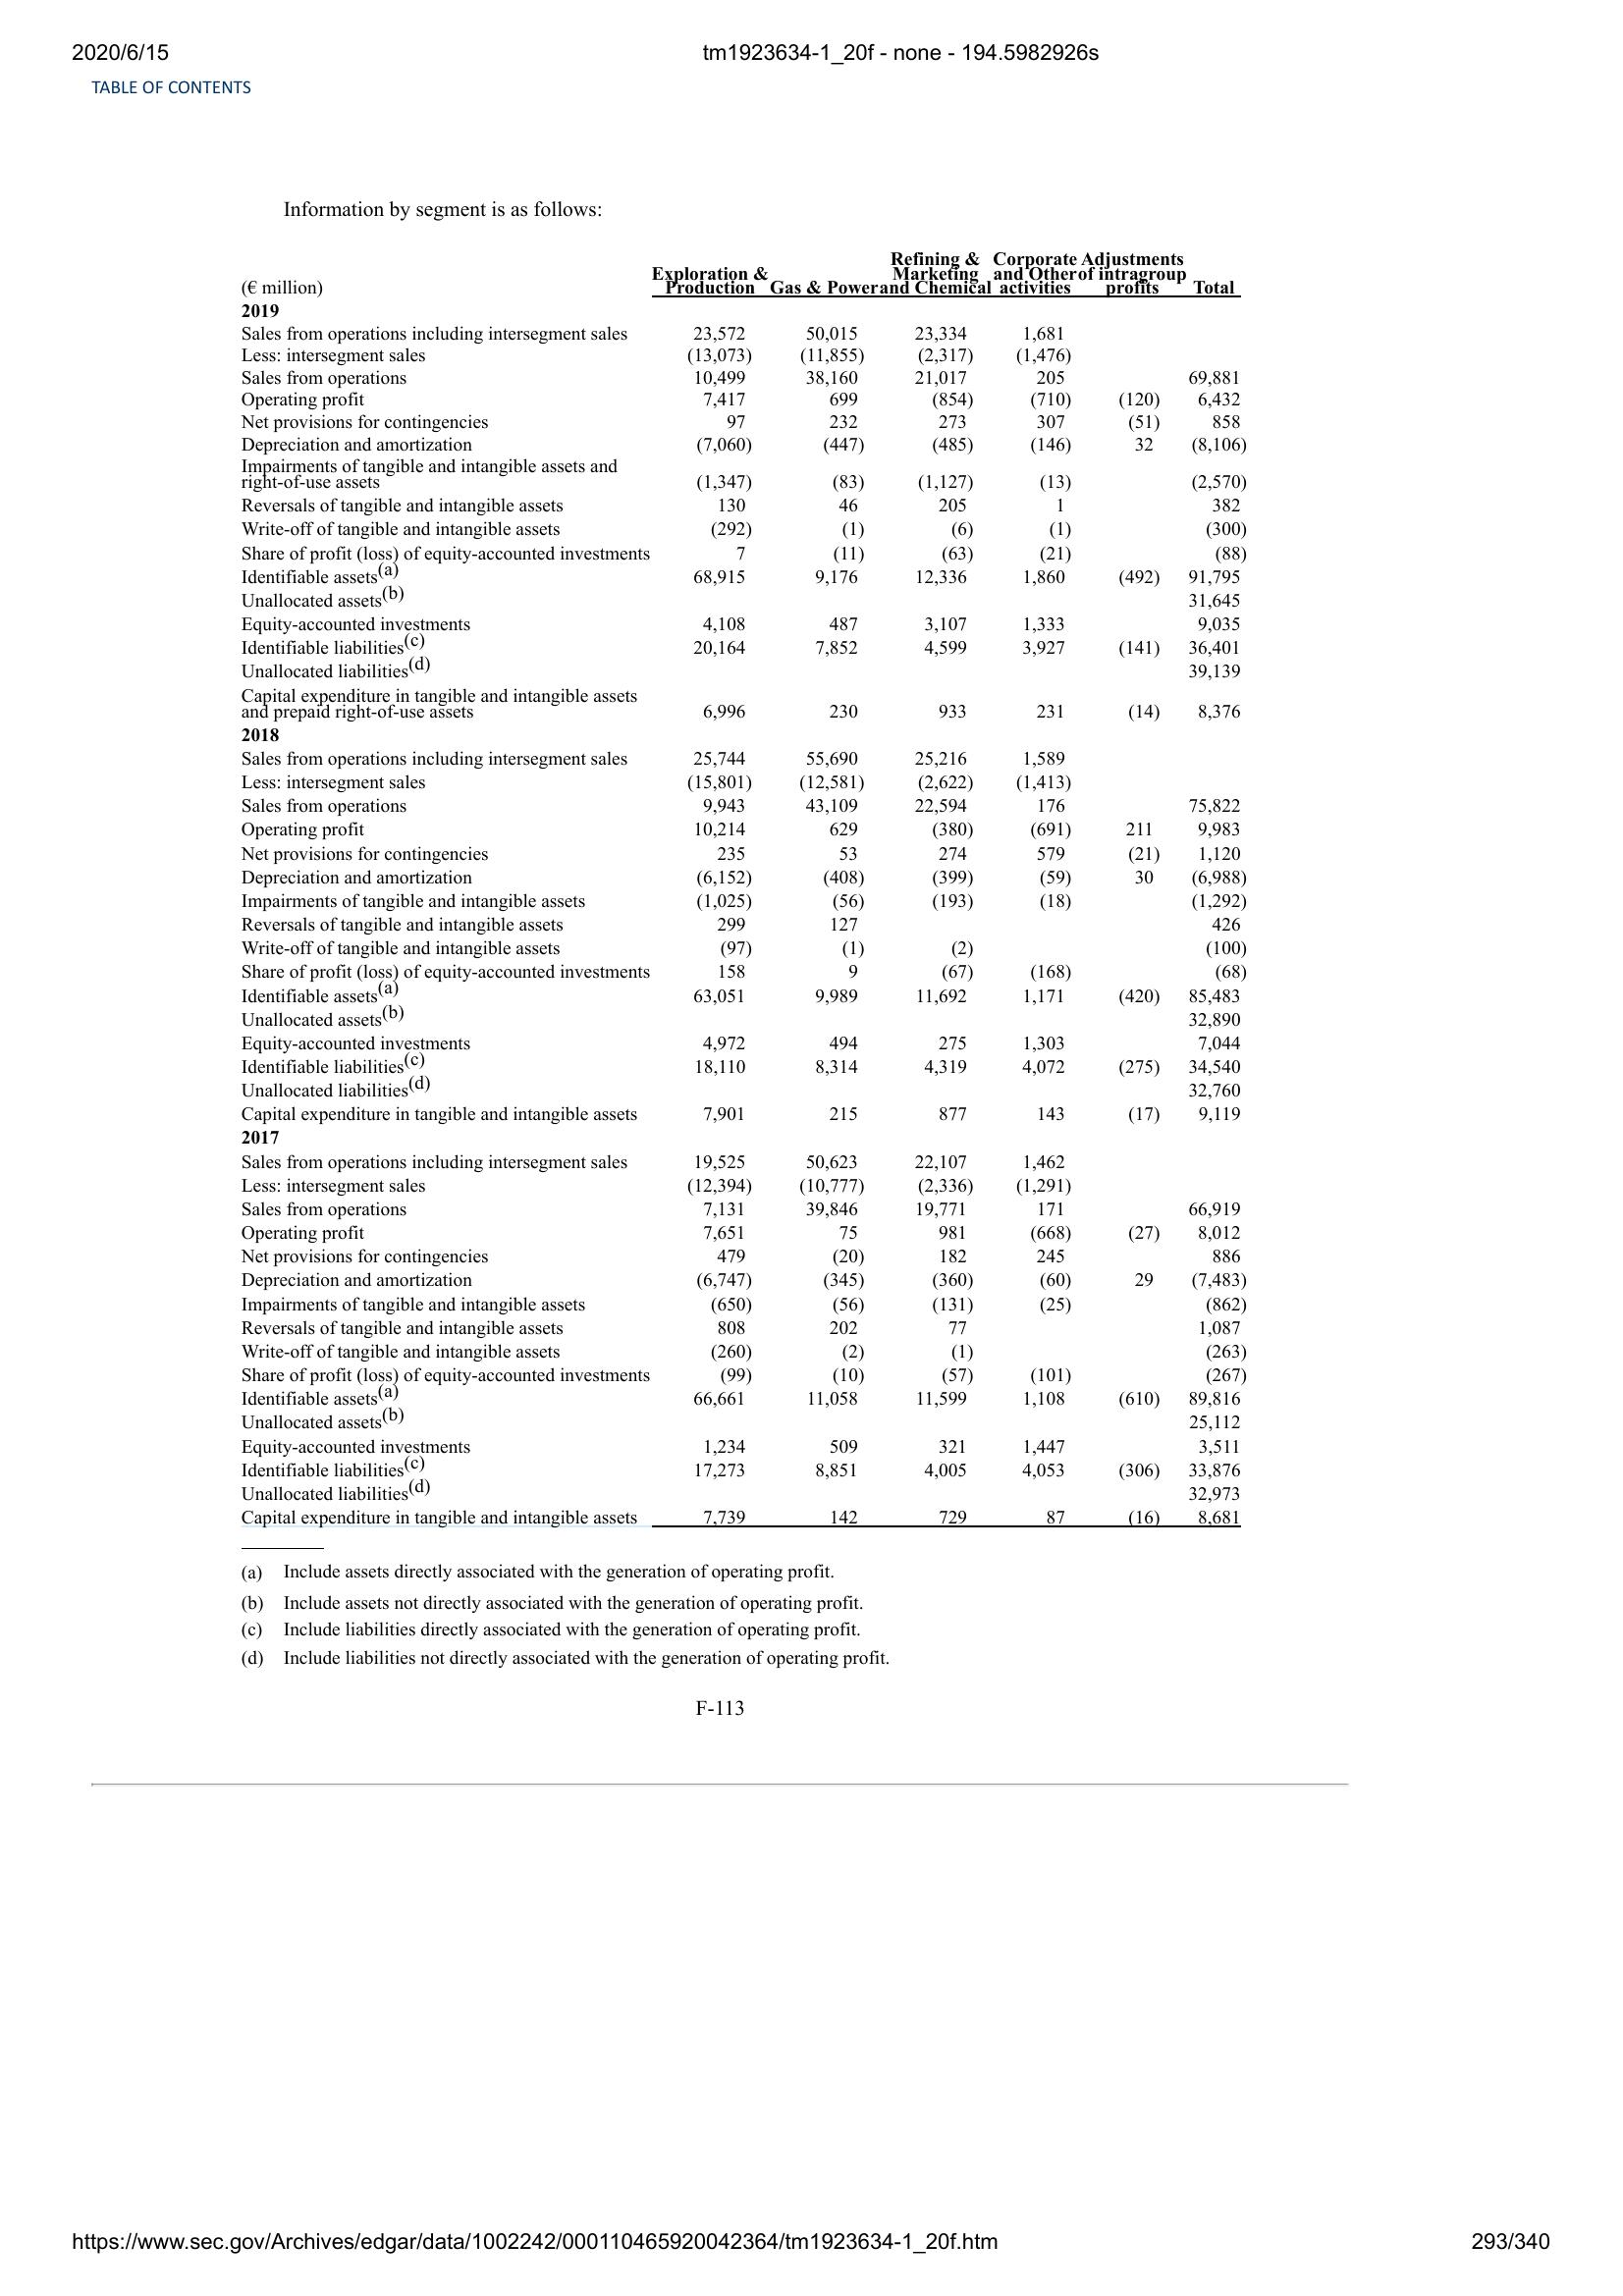table: (235, 246, 1256, 1534)
